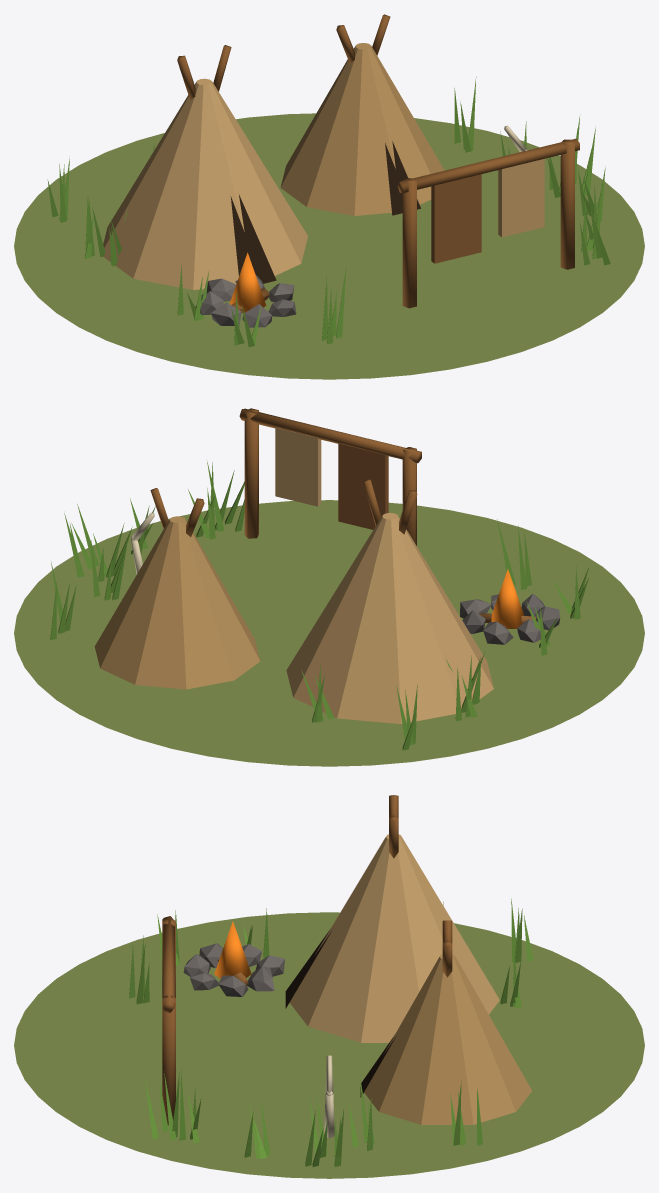
The model's file is improvement_camp.fbx.
The picture shows the model from 3 angles, top to bottom: view 1: azimuth 30°, elevation 25°; view 2: azimuth 150°, elevation 25°; view 3: azimuth 270°, elevation 25°; orthographic projection.
Visible parts, largest first — view 1: improvement_camp_gpatch#7a8a48r_00, improvement_camp_tent#c8a068_02, improvement_camp_tent#b89058_05, improvement_camp_wood#8a5a2c.004_04, improvement_camp_leaf#6a9a3a.002_01, improvement_camp_pelt.001_06, improvement_camp_hide_07, improvement_camp_rock#6a6460.001_08, improvement_camp_tentdoor#2a1c10_03, improvement_camp_fire_09; view 2: improvement_camp_gpatch#7a8a48r_00, improvement_camp_tent#c8a068_02, improvement_camp_tent#b89058_05, improvement_camp_leaf#6a9a3a.002_01, improvement_camp_wood#8a5a2c.004_04, improvement_camp_pelt.001_06, improvement_camp_hide_07, improvement_camp_rock#6a6460.001_08, improvement_camp_fire_09; view 3: improvement_camp_gpatch#7a8a48r_00, improvement_camp_tent#c8a068_02, improvement_camp_tent#b89058_05, improvement_camp_leaf#6a9a3a.002_01, improvement_camp_wood#8a5a2c.004_04, improvement_camp_rock#6a6460.001_08, improvement_camp_fire_09, improvement_camp_tentdoor#2a1c10_03, improvement_camp_antler.001_10.
Part boxes in pixels (left/top/right/bottom): improvement_camp_gpatch#7a8a48r_00: left=14, top=113, right=644, bottom=379; improvement_camp_tent#c8a068_02: left=103, top=78, right=307, bottom=289; improvement_camp_tent#b89058_05: left=280, top=43, right=444, bottom=215; improvement_camp_wood#8a5a2c.004_04: left=177, top=14, right=579, bottom=312; improvement_camp_leaf#6a9a3a.002_01: left=47, top=77, right=610, bottom=347; improvement_camp_pelt.001_06: left=431, top=174, right=481, bottom=263; improvement_camp_hide_07: left=498, top=159, right=544, bottom=237; improvement_camp_rock#6a6460.001_08: left=195, top=275, right=296, bottom=327; improvement_camp_tentdoor#2a1c10_03: left=230, top=141, right=420, bottom=283; improvement_camp_fire_09: left=229, top=252, right=266, bottom=312; improvement_camp_gpatch#7a8a48r_00: left=14, top=500, right=644, bottom=766; improvement_camp_tent#c8a068_02: left=286, top=513, right=493, bottom=724; improvement_camp_tent#b89058_05: left=94, top=516, right=260, bottom=689; improvement_camp_leaf#6a9a3a.002_01: left=50, top=461, right=589, bottom=750; improvement_camp_wood#8a5a2c.004_04: left=150, top=408, right=536, bottom=623; improvement_camp_pelt.001_06: left=338, top=443, right=388, bottom=529; improvement_camp_hide_07: left=275, top=427, right=321, bottom=506; improvement_camp_rock#6a6460.001_08: left=460, top=593, right=560, bottom=644; improvement_camp_fire_09: left=491, top=569, right=524, bottom=628; improvement_camp_gpatch#7a8a48r_00: left=14, top=912, right=644, bottom=1178; improvement_camp_tent#c8a068_02: left=289, top=834, right=499, bottom=1042; improvement_camp_tent#b89058_05: left=364, top=954, right=531, bottom=1124; improvement_camp_leaf#6a9a3a.002_01: left=129, top=898, right=533, bottom=1166; improvement_camp_wood#8a5a2c.004_04: left=162, top=795, right=452, bottom=1125; improvement_camp_rock#6a6460.001_08: left=183, top=943, right=284, bottom=996; improvement_camp_fire_09: left=214, top=921, right=251, bottom=978; improvement_camp_tentdoor#2a1c10_03: left=285, top=930, right=395, bottom=1097; improvement_camp_antler.001_10: left=324, top=1055, right=334, bottom=1138.
Bounding box in the file's own units: 118 × 40.8 × 118.
